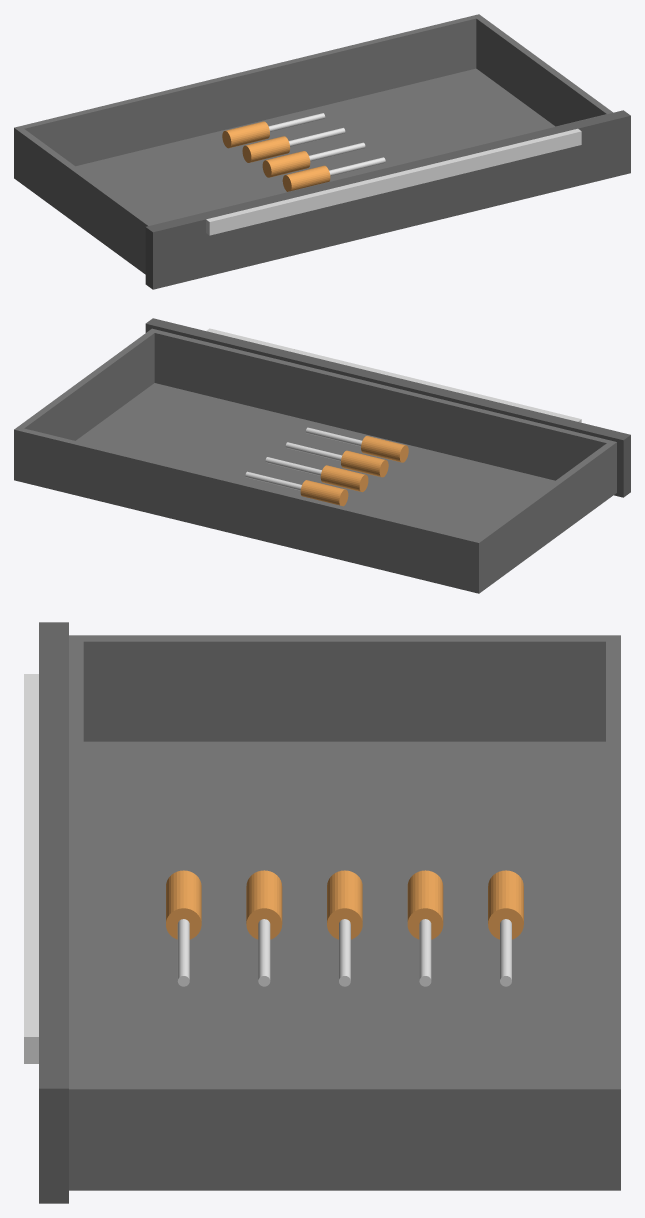
Rendered from Drawer_screwdrivers.glb.
The picture shows the model from 3 angles, top to bottom: view 1: azimuth 30°, elevation 25°; view 2: azimuth 150°, elevation 25°; view 3: azimuth 270°, elevation 25°; orthographic projection. The views are drawn at different scales.
Visible parts, largest first — view 1: Drawer_screwdrivers-BooleanDifference-Cube-cube, Drawer_screwdrivers-Cube-cube, Drawer_screwdrivers-Cube-cube.001, Drawer_screwdrivers-Stacked Shapes-Concatenated-Cylinder-cy. (×4); view 2: Drawer_screwdrivers-BooleanDifference-Cube-cube, Drawer_screwdrivers-Cube-cube, Drawer_screwdrivers-Stacked Shapes-Concatenated-Cylinder-cy. (×3), Drawer_screwdrivers-Cube-cube.001, Drawer_screwdrivers-Stacked Shapes-Concatenated-Cylinder-cyl; view 3: Drawer_screwdrivers-BooleanDifference-Cube-cube, Drawer_screwdrivers-Cube-cube, Drawer_screwdrivers-Stacked Shapes-Concatenated-Cylinder-cy. (×8), Drawer_screwdrivers-Cube-cube.001, Drawer_screwdrivers-Stacked Shapes-Concatenated-Cylinder-cyl, Drawer_screwdrivers-Stacked Shapes-Concatenated-Cylinder-cy.
Part boxes in pixels (box(x1,y1,x2,y2)): Drawer_screwdrivers-BooleanDifference-Cube-cube: box(14, 14, 612, 274); Drawer_screwdrivers-Cube-cube: box(145, 110, 630, 289); Drawer_screwdrivers-Cube-cube.001: box(206, 128, 581, 235); Drawer_screwdrivers-Stacked Shapes-Concatenated-Cylinder-cy. (×4): box(222, 121, 330, 191); Drawer_screwdrivers-BooleanDifference-Cube-cube: box(14, 328, 616, 593); Drawer_screwdrivers-Cube-cube: box(145, 318, 630, 497); Drawer_screwdrivers-Stacked Shapes-Concatenated-Cylinder-cy. (×3): box(300, 450, 388, 506); Drawer_screwdrivers-Cube-cube.001: box(206, 328, 581, 422); Drawer_screwdrivers-Stacked Shapes-Concatenated-Cylinder-cyl: box(361, 436, 408, 462); Drawer_screwdrivers-BooleanDifference-Cube-cube: box(69, 635, 620, 1190); Drawer_screwdrivers-Cube-cube: box(39, 622, 68, 1203); Drawer_screwdrivers-Stacked Shapes-Concatenated-Cylinder-cy. (×8): box(246, 870, 523, 986); Drawer_screwdrivers-Cube-cube.001: box(24, 674, 38, 1063); Drawer_screwdrivers-Stacked Shapes-Concatenated-Cylinder-cyl: box(166, 870, 201, 939); Drawer_screwdrivers-Stacked Shapes-Concatenated-Cylinder-cy: box(177, 919, 189, 986).
Size of the model in its own units: 0.74 by 0.085 by 0.4.
